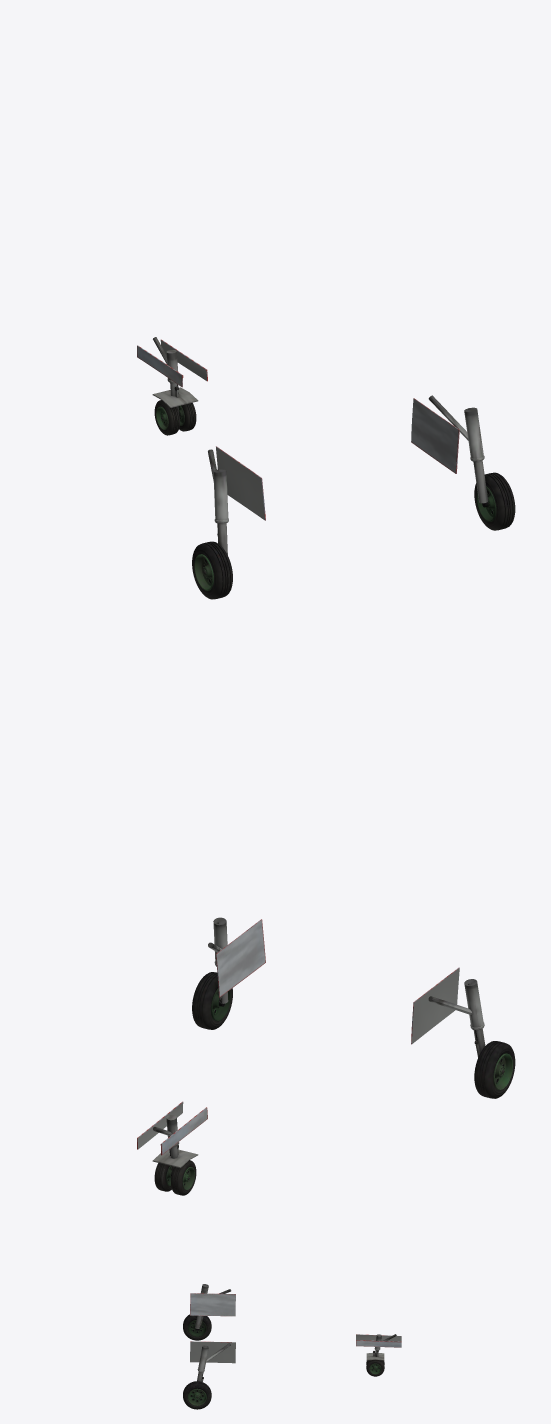
Rendered from e_su57_gear.glb.
3 views of the same model, one above another, from view 1: azimuth 30°, elevation 25°; view 2: azimuth 150°, elevation 25°; view 3: azimuth 270°, elevation 25° (orthographic). The views are drawn at different scales.
Visible parts, largest first — view 1: body|MG_paint; view 2: body|MG_paint; view 3: body|MG_paint.
Part boxes in pixels (x1,y1,x2,y2): body|MG_paint: [137, 337, 515, 599]; body|MG_paint: [137, 917, 515, 1195]; body|MG_paint: [183, 1284, 401, 1409].
Bounding box in the file's own units: 6.28 × 5.97 × 18.93.
1 material, 1 textured.
